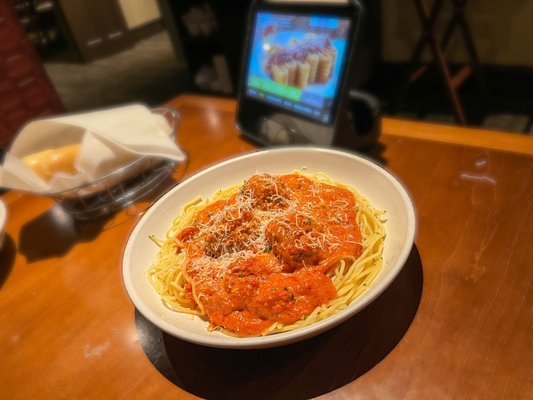sushi: (119, 139, 418, 350)
